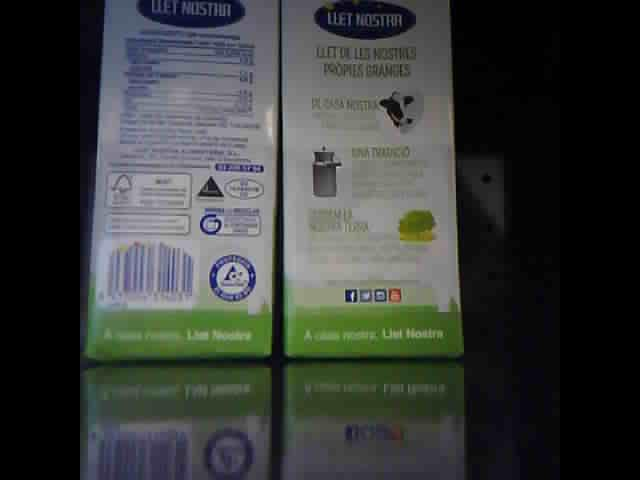leche: (87, 1, 279, 364), (285, 2, 453, 358)
